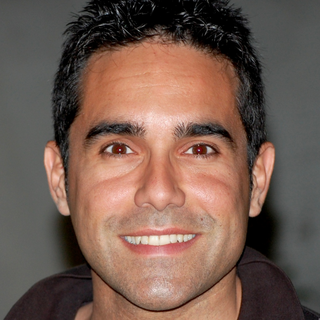eye: (94, 139, 142, 161), (177, 140, 222, 162)
